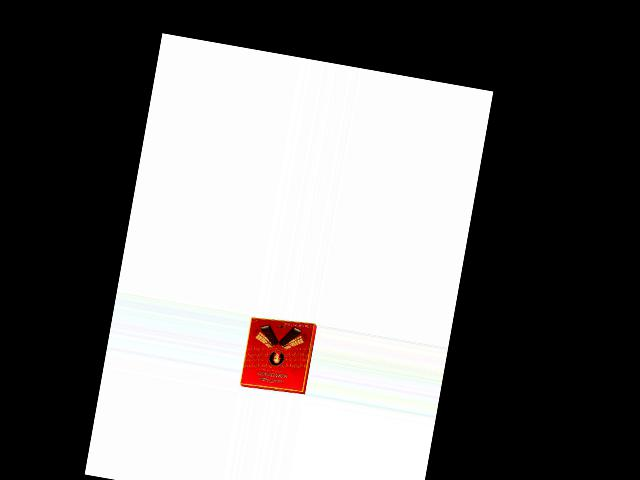chocolate: (238, 310, 318, 396)
